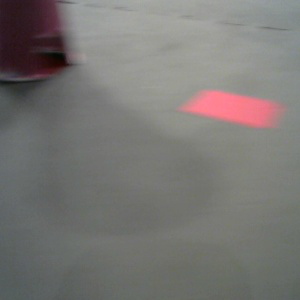middle: (1, 1, 81, 84)
